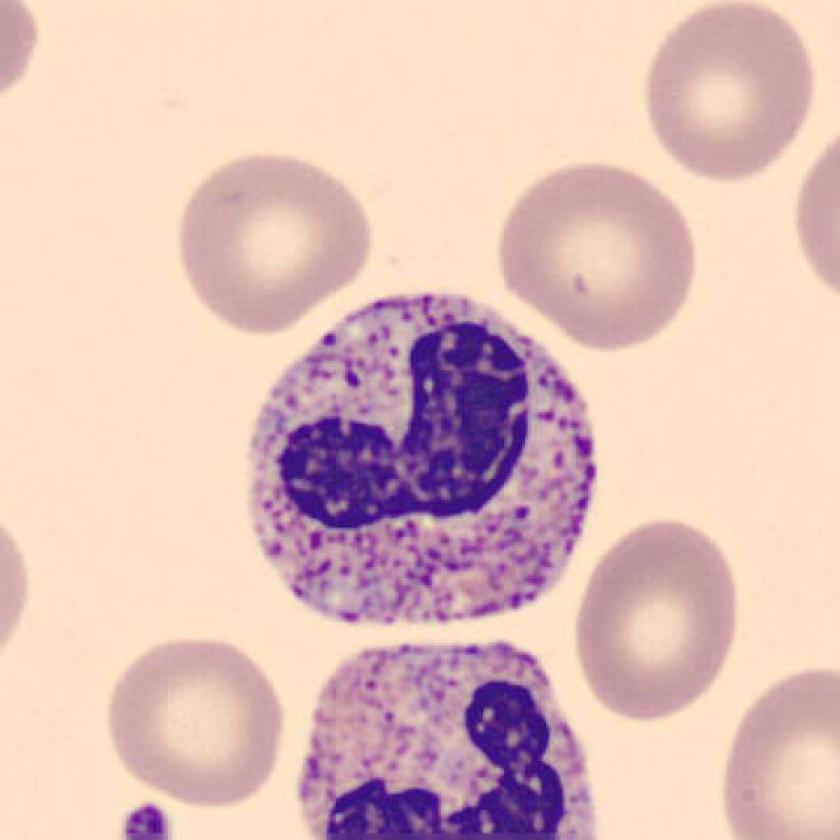neutrophil: (253, 290, 596, 619), (298, 640, 597, 840)
